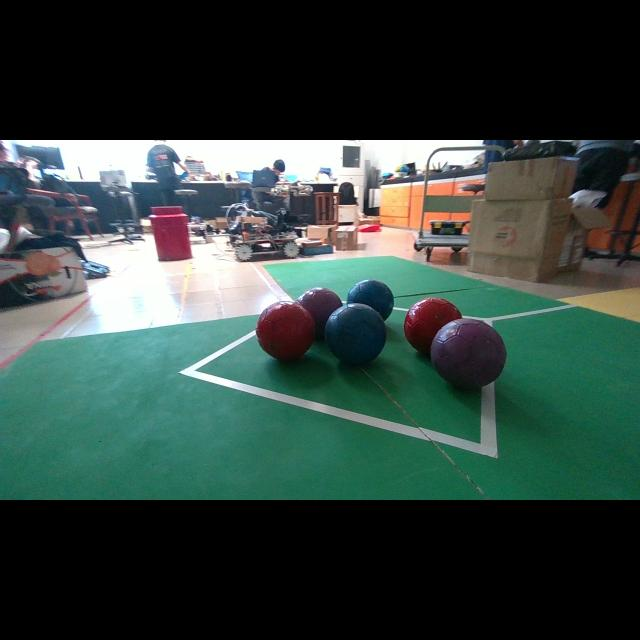B: (325, 305, 386, 364), (346, 279, 394, 320)
P: (430, 320, 506, 389), (298, 288, 342, 339)
R: (256, 301, 315, 360), (404, 298, 462, 354)
